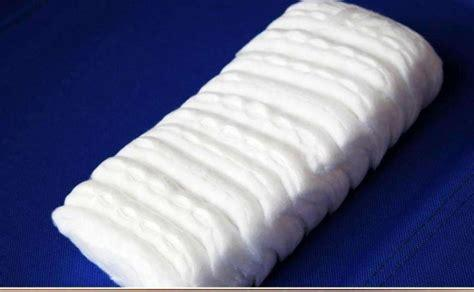cotton: (53, 0, 438, 292)
